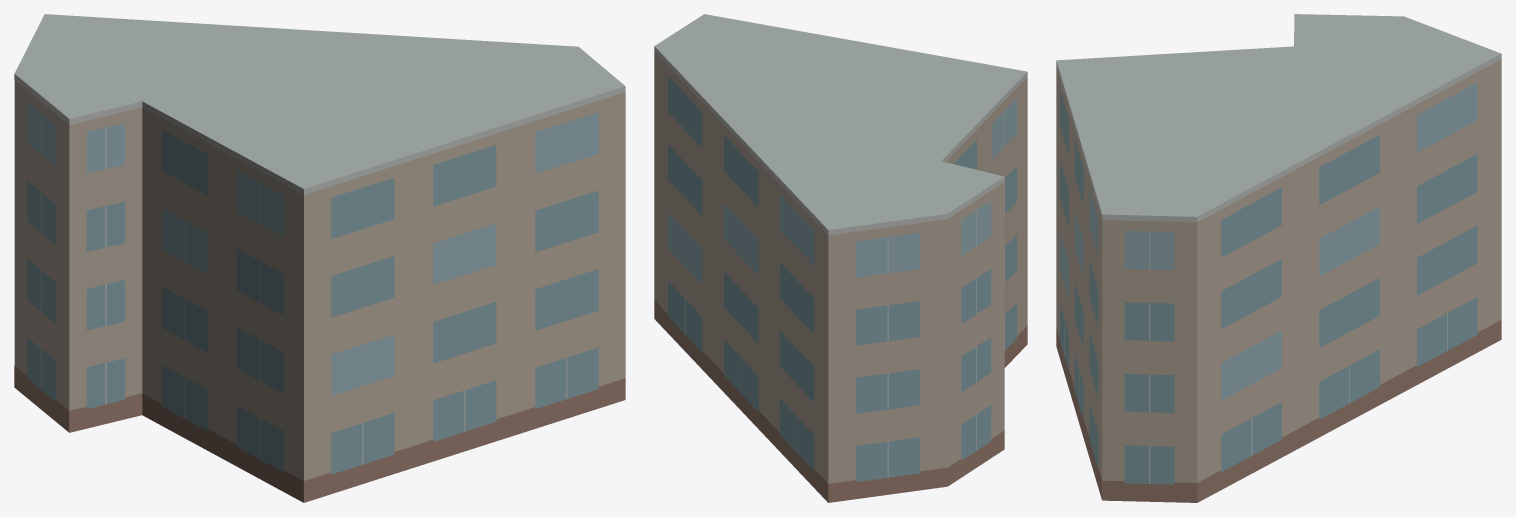
The model's file is survey-upis-32647524.glb.
The picture shows the model from 3 angles, left to right: view 1: azimuth 30°, elevation 25°; view 2: azimuth 150°, elevation 25°; view 3: azimuth 270°, elevation 25°; orthographic projection. The views are drawn at different scales.
Parts seen in each view (by area): view 1: survey-upis-32647524.tmp; view 2: survey-upis-32647524.tmp; view 3: survey-upis-32647524.tmp.
Part boxes in pixels (left/top/right/bottom): survey-upis-32647524.tmp: left=14, top=14, right=625, bottom=502; survey-upis-32647524.tmp: left=654, top=14, right=1027, bottom=502; survey-upis-32647524.tmp: left=1056, top=14, right=1501, bottom=502.
Bounding box in the file's own units: 19.02 × 12.5 × 17.64.
